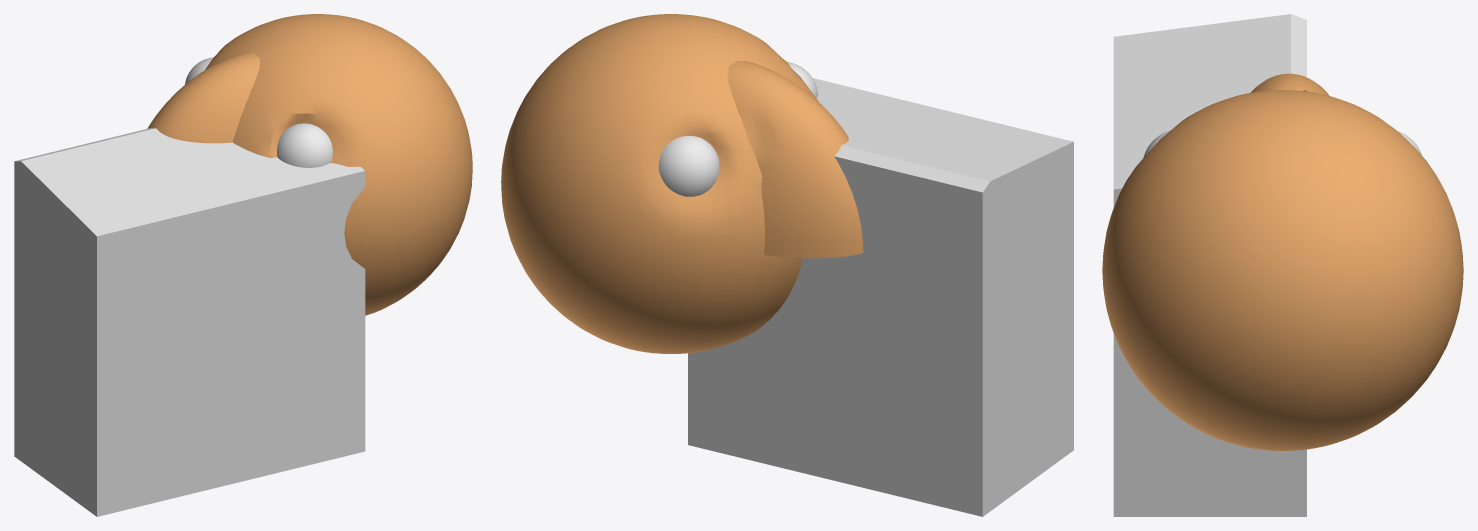
Rendered from Bry.fbx.
3 renders of one model, left to right at view 1: azimuth 30°, elevation 25°; view 2: azimuth 150°, elevation 25°; view 3: azimuth 270°, elevation 25°, orthographic. The views are drawn at different scales.
Parts seen in each view (by area): view 1: Cube, Sphere, Sphere.002; view 2: Cube, Sphere, Sphere.001; view 3: Sphere, Cube.
Boxes of the visible parts, x1=… form: Cube: x1=14, y1=128, x2=365, y2=516; Sphere: x1=147, y1=14, x2=472, y2=315; Sphere.002: x1=277, y1=123, x2=332, y2=167; Cube: x1=688, y1=78, x2=1073, y2=516; Sphere: x1=501, y1=14, x2=863, y2=353; Sphere.001: x1=658, y1=136, x2=719, y2=196; Sphere: x1=1102, y1=73, x2=1463, y2=450; Cube: x1=1113, y1=14, x2=1306, y2=516.
Size of the model in its own units: 319 by 259 by 200.
